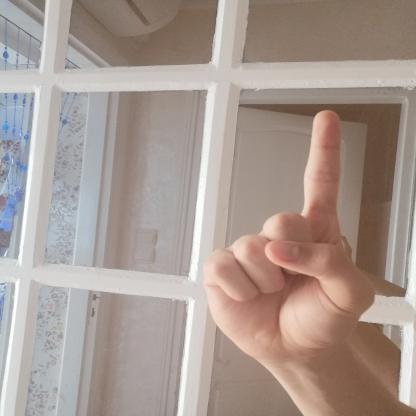BAA: (190, 99, 394, 370)
